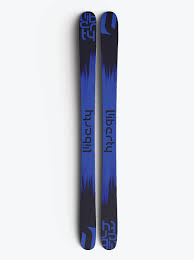skis: (77, 10, 120, 252)
